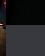breastplate: (6, 25, 45, 56)
lifeC: (0, 0, 6, 25)
